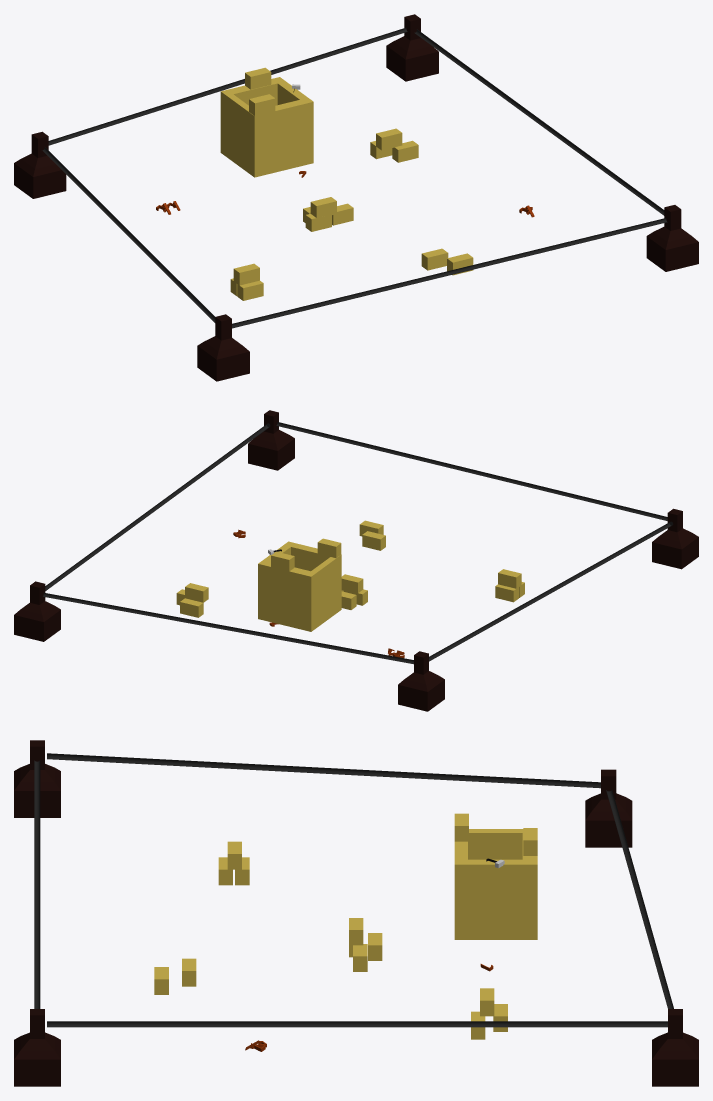
Rendered from site1.obj.
3 renders of one model, top to bottom at view 1: azimuth 30°, elevation 25°; view 2: azimuth 150°, elevation 25°; view 3: azimuth 270°, elevation 25°, orthographic. The views are drawn at different scales.
Parts seen in each view (by area): view 1: Plane.011, Cylinder, Plane.012, Cube.003_Cube.006, Cube.004_Cube.007, Cube.002_Cube.005, Cube.001, Cylinder.001, Cylinder.003, Cylinder.002, Plane.009; view 2: Plane.009, Plane.012, Cylinder, Cube.002_Cube.005, Cube.001, Cube.004_Cube.007, Cube.003_Cube.006, Cylinder.001, Cylinder.002, Cylinder.003, Plane.010, Plane.011 (+1 smaller); view 3: Plane.013, Cylinder.003, Cylinder.002, Cube.002_Cube.005, Cube.003_Cube.006, Cube.001, Cube.004_Cube.007, Cylinder, Plane.012, Cylinder.001, Plane.009, Plane.011.
Part boxes in pixels (x1=…): Plane.011: x1=255, y1=98, x2=313, y2=177; Cylinder: x1=232, y1=218, x2=667, y2=328; Plane.012: x1=220, y1=91, x2=254, y2=177; Cube.003_Cube.006: x1=646, y1=205, x2=698, y2=271; Cube.004_Cube.007: x1=197, y1=314, x2=249, y2=381; Cube.002_Cube.005: x1=386, y1=14, x2=438, y2=81; Cube.001: x1=14, y1=131, x2=66, y2=198; Cylinder.001: x1=48, y1=27, x2=407, y2=145; Cylinder.003: x1=414, y1=29, x2=664, y2=215; Cylinder.002: x1=42, y1=147, x2=215, y2=322; Plane.009: x1=221, y1=77, x2=285, y2=105; Plane.009: x1=258, y1=561, x2=315, y2=630; Plane.012: x1=305, y1=554, x2=341, y2=631; Cylinder: x1=276, y1=422, x2=667, y2=520; Cube.002_Cube.005: x1=14, y1=581, x2=60, y2=641; Cube.001: x1=398, y1=651, x2=444, y2=711; Cube.004_Cube.007: x1=652, y1=508, x2=698, y2=569; Cube.003_Cube.006: x1=248, y1=410, x2=294, y2=470; Cylinder.001: x1=43, y1=593, x2=413, y2=664; Cylinder.002: x1=429, y1=521, x2=673, y2=661; Cylinder.003: x1=45, y1=423, x2=270, y2=590; Plane.010: x1=265, y1=566, x2=305, y2=626; Plane.011: x1=284, y1=542, x2=329, y2=571; Plane.013: x1=468, y1=859, x2=522, y2=939; Cylinder.003: x1=47, y1=1021, x2=667, y2=1027; Cylinder.002: x1=47, y1=753, x2=600, y2=788; Cube.002_Cube.005: x1=652, y1=1009, x2=698, y2=1086; Cube.003_Cube.006: x1=14, y1=1009, x2=60, y2=1086; Cube.001: x1=585, y1=769, x2=632, y2=847; Cube.004_Cube.007: x1=14, y1=740, x2=60, y2=817; Cylinder: x1=34, y1=760, x2=40, y2=1008; Plane.012: x1=468, y1=829, x2=523, y2=859; Cylinder.001: x1=606, y1=790, x2=673, y2=1008; Plane.009: x1=522, y1=832, x2=537, y2=939; Plane.011: x1=454, y1=841, x2=467, y2=939.
Size of the model in its own units: 16.43 by 3.29 by 16.48.
